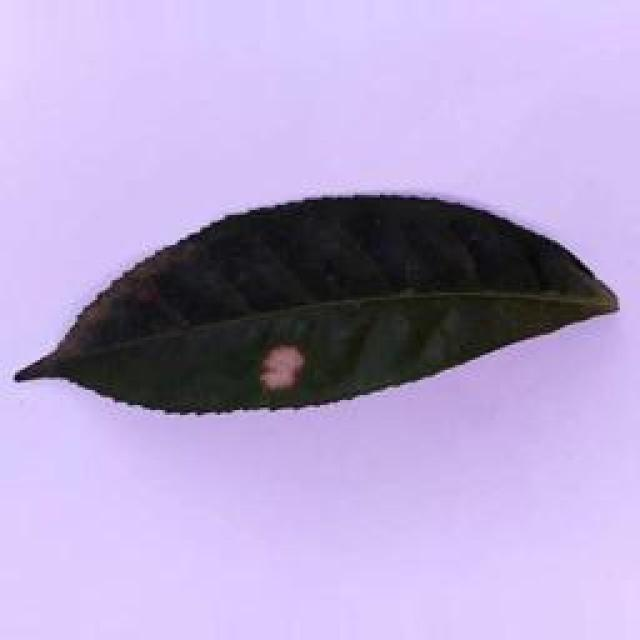Gray Blight: (22, 191, 622, 418)
